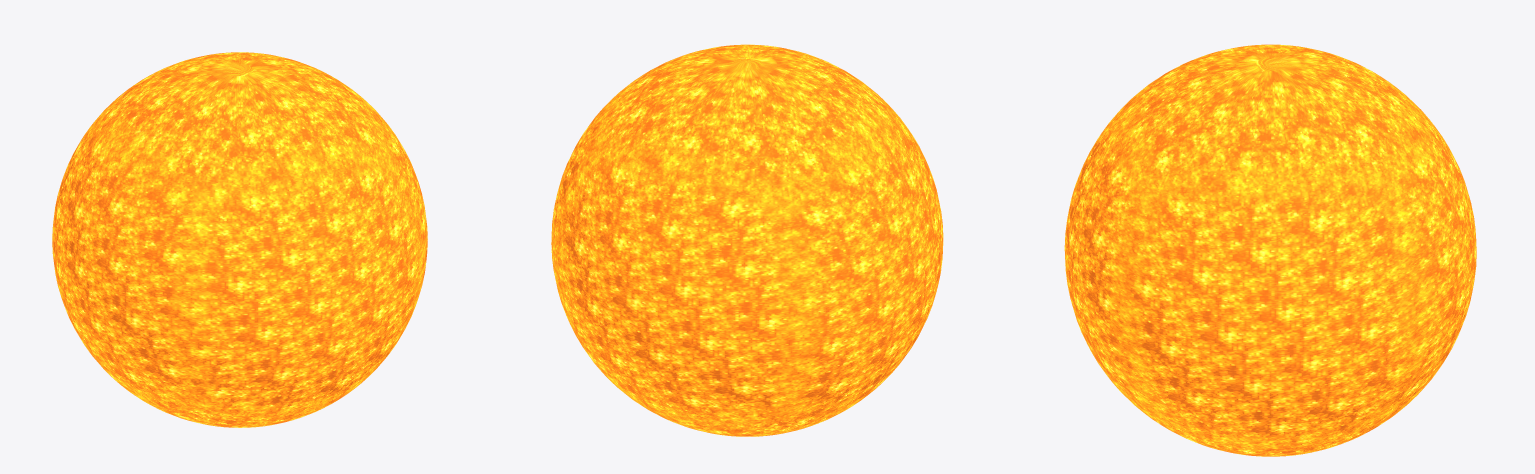
Rendered from Sol.gltf.
The picture shows the model from 3 angles, left to right: view 1: azimuth 30°, elevation 25°; view 2: azimuth 150°, elevation 25°; view 3: azimuth 270°, elevation 25°; orthographic projection. The views are drawn at different scales.
Parts seen in each view (by area): view 1: Sol_Clouds_004; view 2: Sol_Clouds_004; view 3: Sol_Clouds_004.
Part boxes in pixels (box(x1,y1,x2,y2)): Sol_Clouds_004: box(52, 52, 427, 427); Sol_Clouds_004: box(551, 44, 943, 436); Sol_Clouds_004: box(1064, 44, 1476, 456).
Size of the model in its own units: 25.52 by 23.16 by 24.6.
3 materials, 3 textured.
